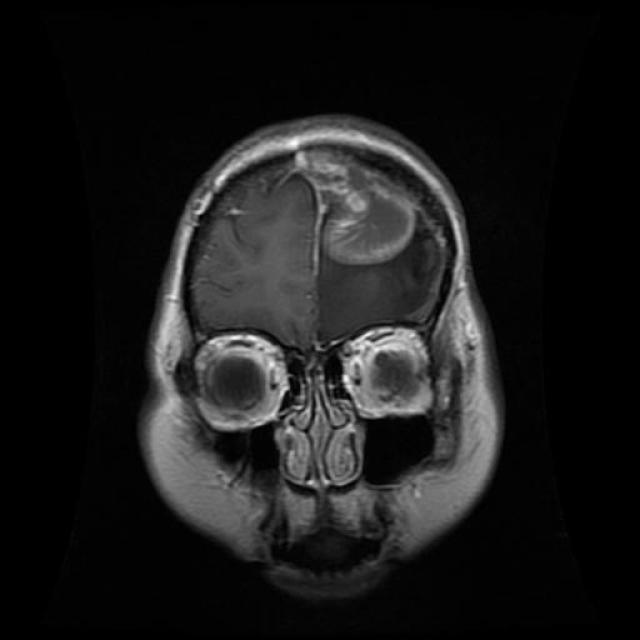glioma: (296, 150, 419, 266)
